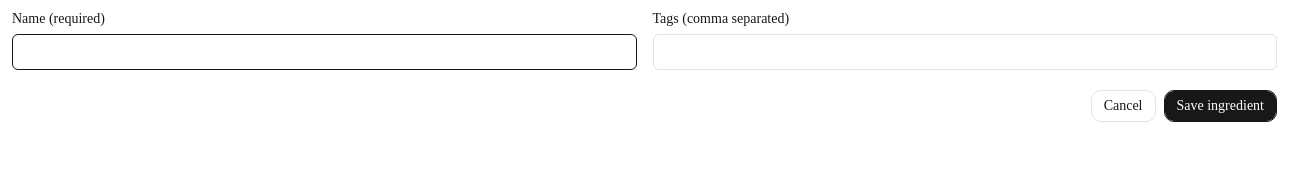
Test: the ingredient form's Save button › asks for a name instead of saving
The width and height of the screenshot is (1292, 177).
Click the button "Save ingredient" at (1220, 106), box [1164,90,1277,122]
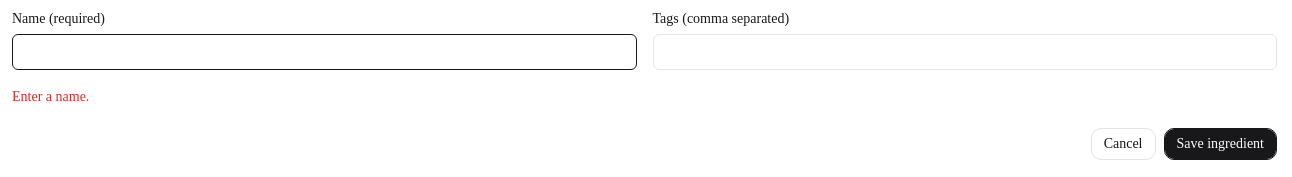
Result: the message reads "Enter a name." at [12,89,89,104]
